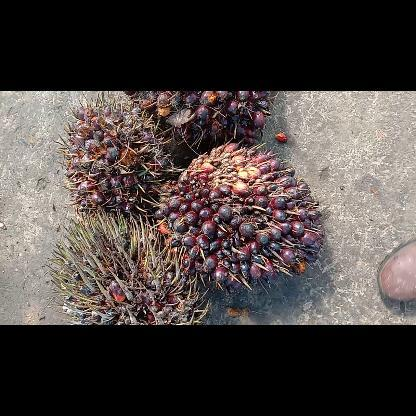Kurang masak: (158, 142, 324, 286), (58, 94, 176, 212)
TBS abnormal: (49, 210, 209, 324)
TBS masak: (122, 91, 268, 157)
